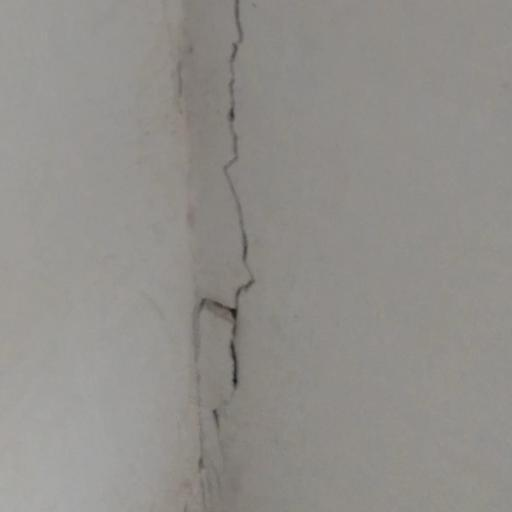minor_crack: (180, 0, 274, 512)
